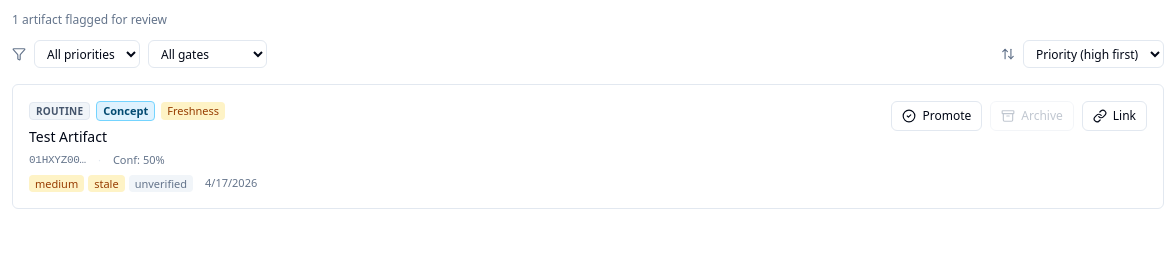
it: ReviewQueue — Promote action: happy path › shows a success toast after promote succeeds
What coordinates should you click on to do the following:
click the button "Promote"
I would click on:
 (937, 116)
Its box is [891, 101, 982, 131].
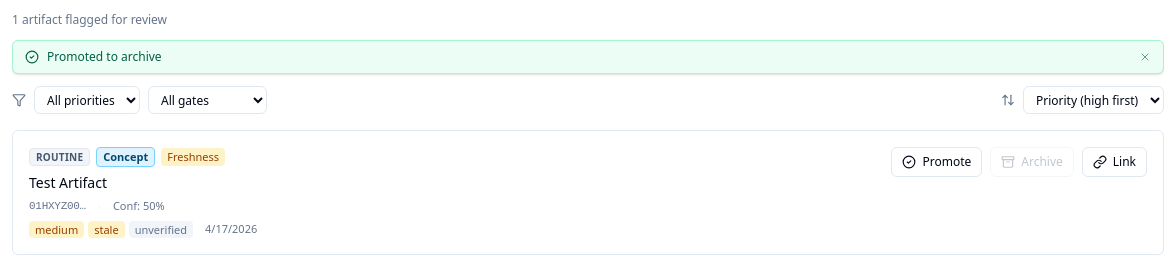
expect the text "Promoted to archive" is shown: met, box [47, 48, 162, 65]
